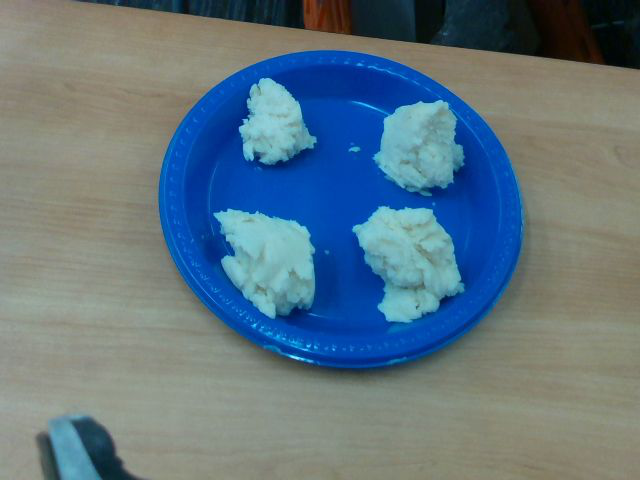mashed_potato: (352, 206, 466, 323), (212, 208, 316, 318), (373, 100, 465, 196), (239, 78, 317, 166)
